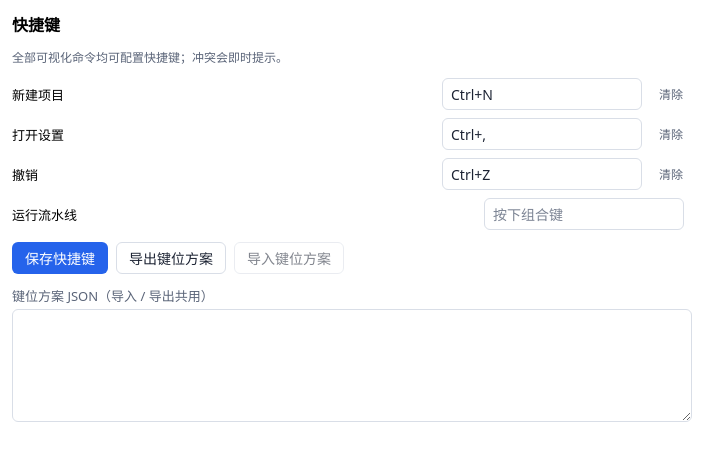
快捷键（FR-SET-07） › 存在冲突时禁止保存并提示占用命令
Replace the text in the field named "新建项目 快捷键" with "Ctrl+Z". click: (542, 94)
box: [451,79,633,109]
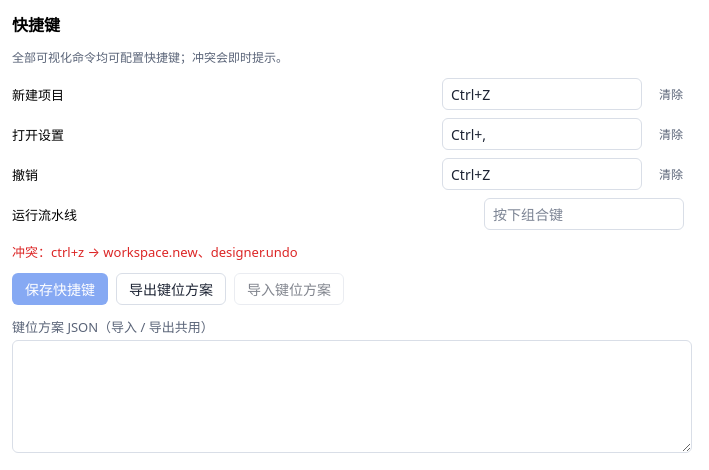
Now the button "保存快捷键" is disabled, box [12,273,108,305]
Now the message shows "designer.undo", box [12,243,298,261]
Now the message shows "ctrl+z", box [12,243,298,261]
